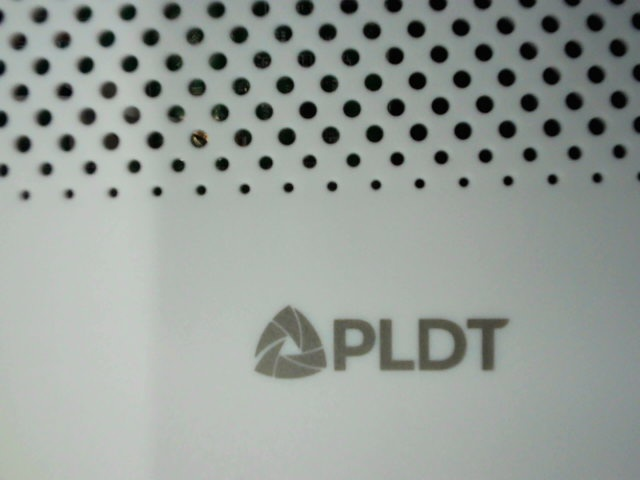BH_PLDT: (233, 283, 518, 398)
